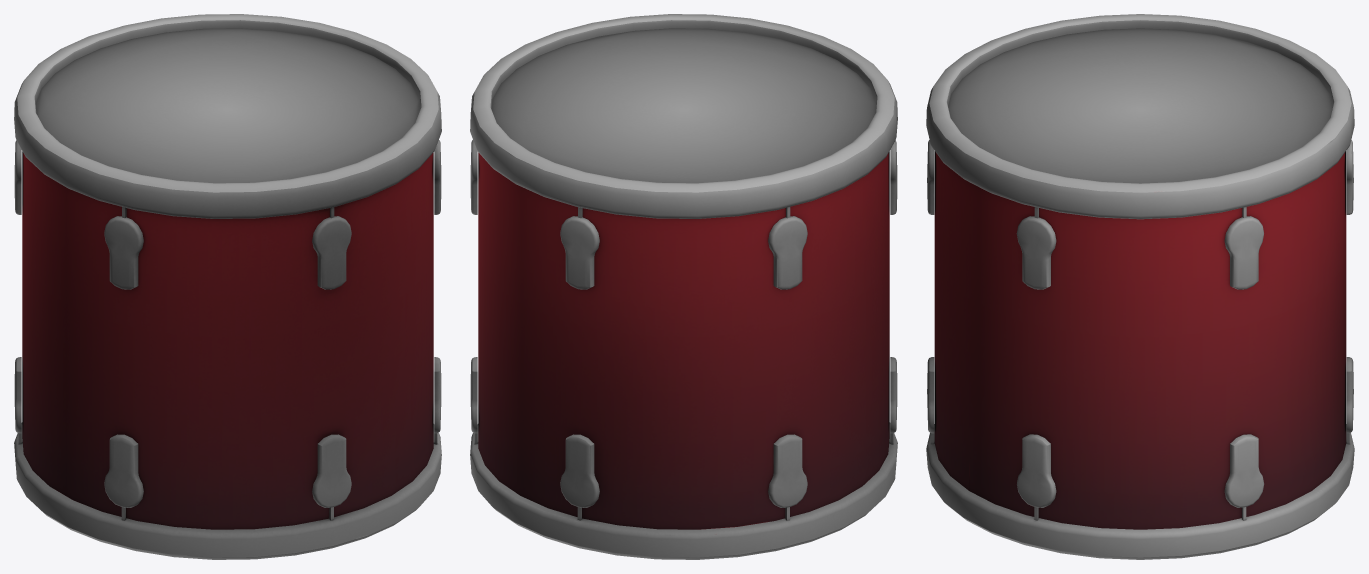
File: beben_wyso_B.fbx
3 views of the same model, side by side, from view 1: azimuth 30°, elevation 25°; view 2: azimuth 150°, elevation 25°; view 3: azimuth 270°, elevation 25° (orthographic).
Parts seen in each view (by area): view 1: beben_wyso_B; view 2: beben_wyso_B; view 3: beben_wyso_B.
Part boxes in pixels (left/top/right/bottom): beben_wyso_B: left=14, top=14, right=441, bottom=559; beben_wyso_B: left=470, top=14, right=897, bottom=559; beben_wyso_B: left=926, top=14, right=1354, bottom=559.
Size of the model in its own units: 624 by 600 by 624.
1 material, 1 textured.
